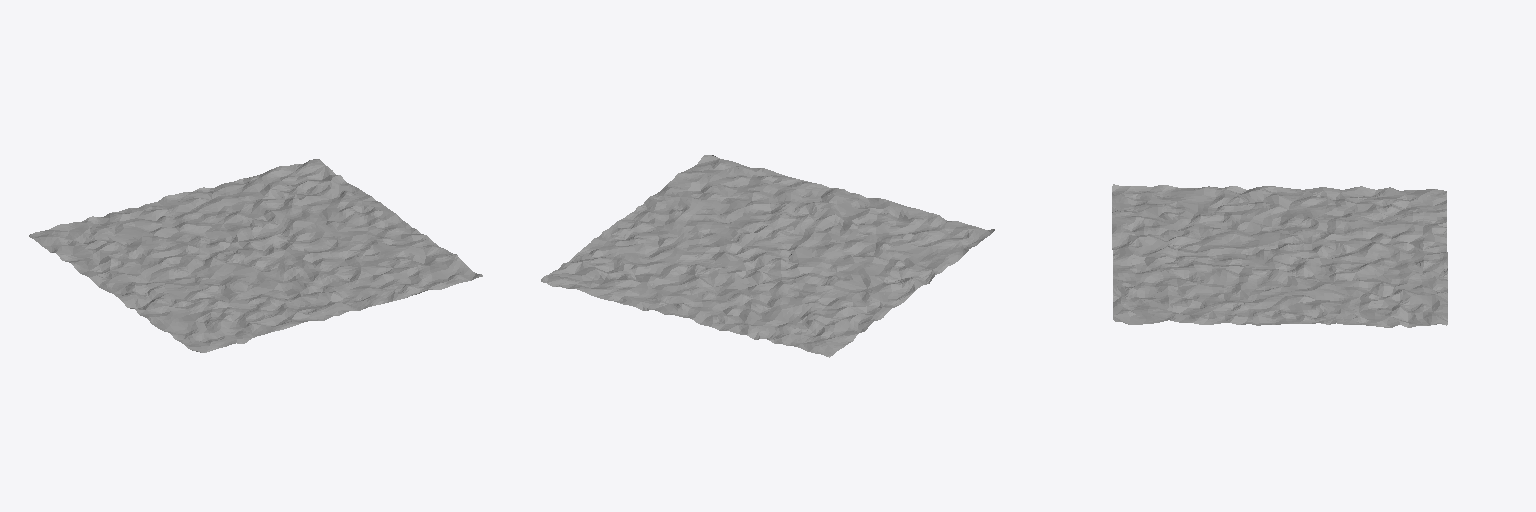
3 views of the same model, side by side, from view 1: azimuth 30°, elevation 25°; view 2: azimuth 150°, elevation 25°; view 3: azimuth 270°, elevation 25° (orthographic).
Visible parts, largest first — view 1: ocean_Plane.005_Plane.006; view 2: ocean_Plane.005_Plane.006; view 3: ocean_Plane.005_Plane.006.
Part boxes in pixels (x1,y1,x2,y2): ocean_Plane.005_Plane.006: (29, 159, 482, 352); ocean_Plane.005_Plane.006: (541, 155, 994, 357); ocean_Plane.005_Plane.006: (1112, 184, 1447, 327).
Size of the model in its own units: 104 by 4.57 by 104.